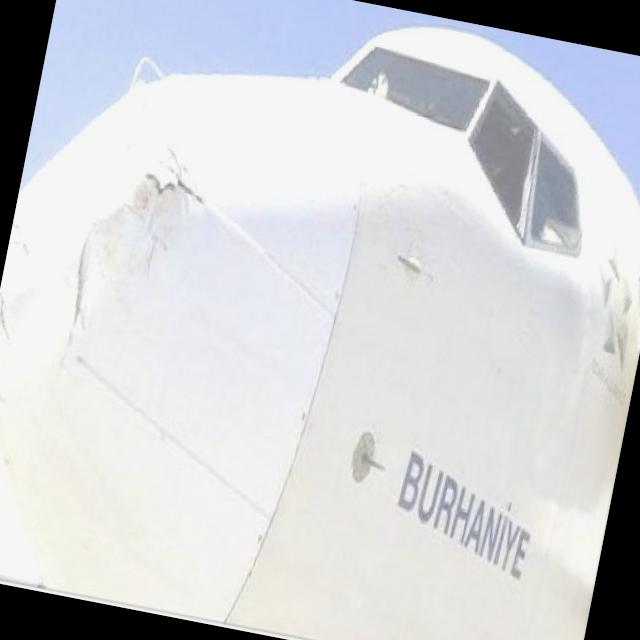dent: (0, 43, 231, 347)
